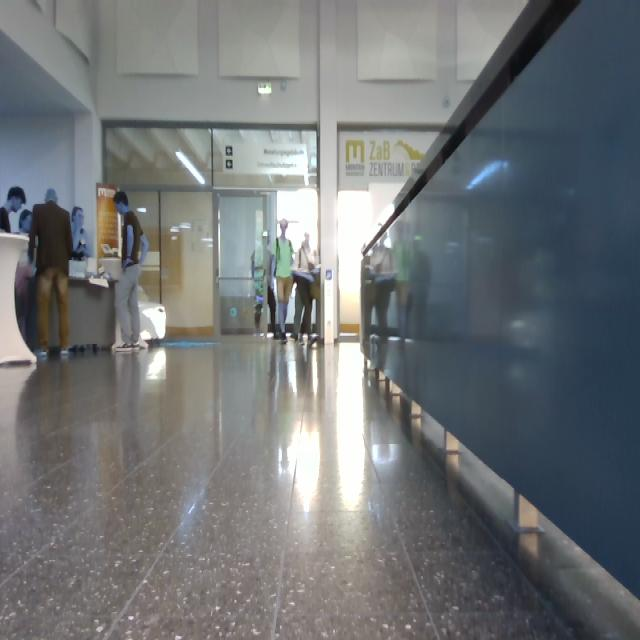door: (160, 190, 215, 337), (217, 192, 268, 336)
light bulb: (466, 158, 509, 192), (175, 151, 206, 187), (257, 82, 272, 96)
person: (28, 188, 74, 356), (113, 191, 149, 351), (273, 220, 296, 344), (293, 233, 318, 344), (71, 206, 91, 260)
staircase: (359, 1, 639, 638)
tiled floor: (2, 335, 584, 639)
